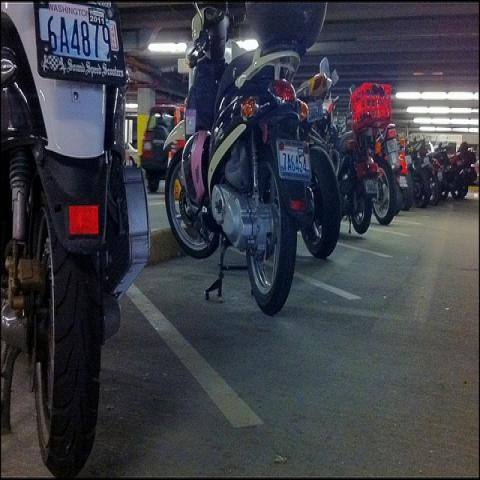car: (138, 102, 186, 194), (124, 142, 138, 165)
motorcycle: (1, 4, 151, 472), (165, 3, 313, 318), (297, 76, 343, 258), (323, 99, 378, 238), (359, 118, 400, 229), (404, 144, 431, 206), (396, 134, 410, 209), (448, 148, 468, 199), (432, 153, 450, 202), (424, 159, 440, 203)
